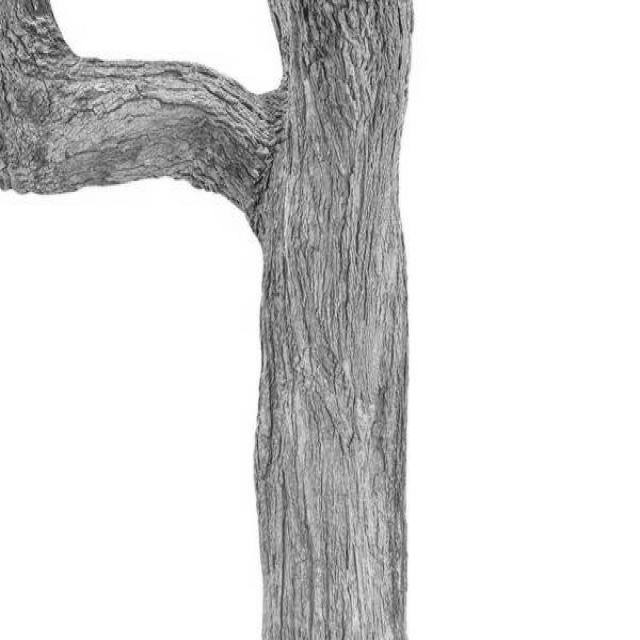Tree: (0, 0, 413, 639)
